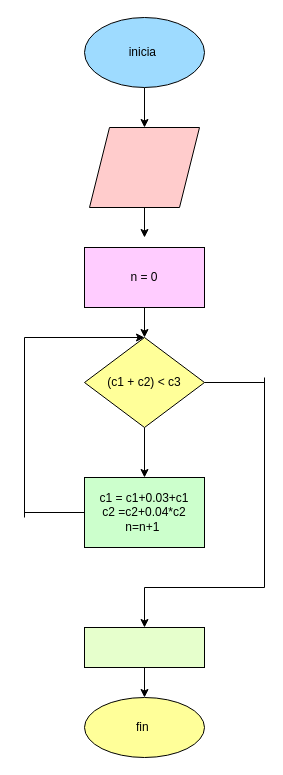
The diagram is 283 pixels wide and 775 high, and some of its shapes have lost their labels. Each missing label, with the centre of its shape:
c1 c2 c3: the point at 144,167
n " meses ": the point at 144,647
